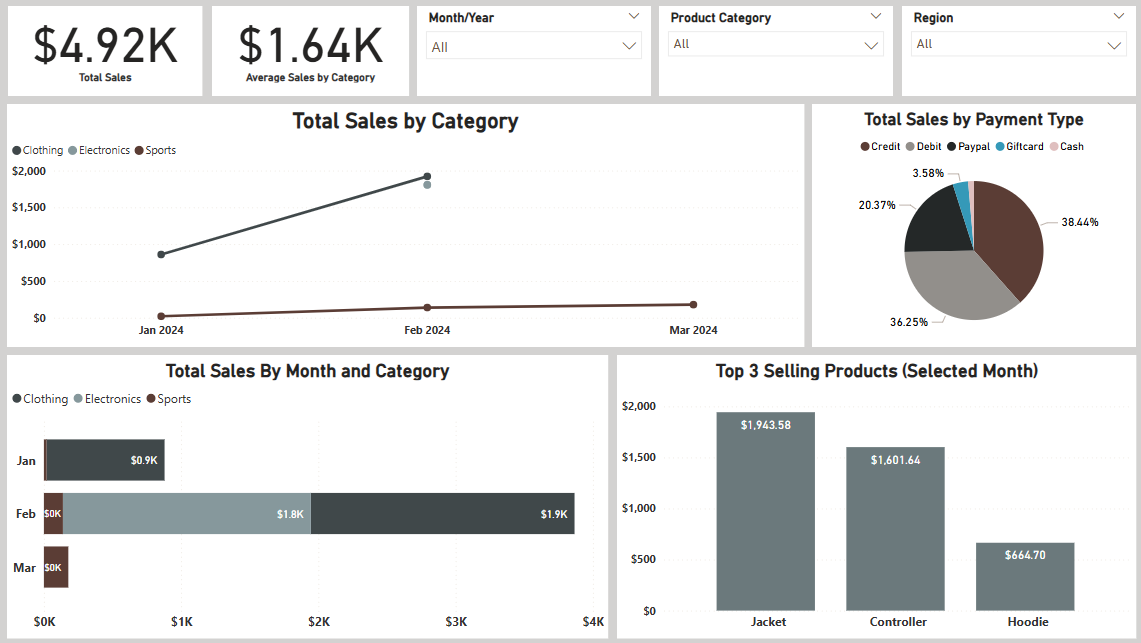

What the dashboard file says about the page in this screenshot:
{"tool":"powerbi","page":{"name":"Product Category Sales Insights Dashboard","canvas":[1280,720],"ordinal":1},"visuals":[{"type":"lineChart","title":"Total Sales by Category","fields":{"Category":["sale.MonthYear"],"Y":["sale.Total Sales"],"Series":["product.category"]},"box":[11,118,886,270],"z":0},{"type":"barChart","title":"Total Sales By Month and Category","fields":{"Category":["sale.Month"],"Series":["product.category"],"Y":["sale.Total Sales"]},"box":[11,397,668,315],"z":1000},{"type":"pieChart","title":"Total Sales by Payment Type","fields":{"Category":["sale.payment_type"],"Y":["sale.Sales by Payment Type"]},"box":[906,118,360,270],"z":2000},{"type":"card","fields":{"Values":["sale.Total Sales"]},"box":[12,9,216,100],"z":3000},{"type":"card","fields":{"Values":["sale.Average Sales by Category"]},"box":[239,9,219,100],"z":4000},{"type":"slicer","fields":{"Values":["product.category"]},"box":[736,9,260,100],"z":5000},{"type":"slicer","fields":{"Values":["sale.MonthYear"]},"box":[467,9,260,100],"z":6000},{"type":"slicer","fields":{"Values":["customer.region"]},"box":[1006,9,260,100],"z":7000},{"type":"clusteredColumnChart","title":"Top 3 Selling Products (Selected Month)","fields":{"Category":["product.product_name"],"Y":["sale.Total Sales"]},"box":[689,397,577,315],"z":8000}]}

Visuals, with their boxes in screenshot pixels (x1, y1, x2, y2), scaled from the page's 1280x720 canvas onto the 1141x643 screenshot:
"Total Sales by Category" lineChart: 10 105 800 347
"Total Sales By Month and Category" barChart: 10 355 605 636
"Total Sales by Payment Type" pieChart: 808 105 1129 347
card - sale.Total Sales: 11 8 203 97
card - sale.Average Sales by Category: 213 8 408 97
slicer - product.category: 656 8 888 97
slicer - sale.MonthYear: 416 8 648 97
slicer - customer.region: 897 8 1129 97
"Top 3 Selling Products (Selected Month)" clusteredColumnChart: 614 355 1129 636
